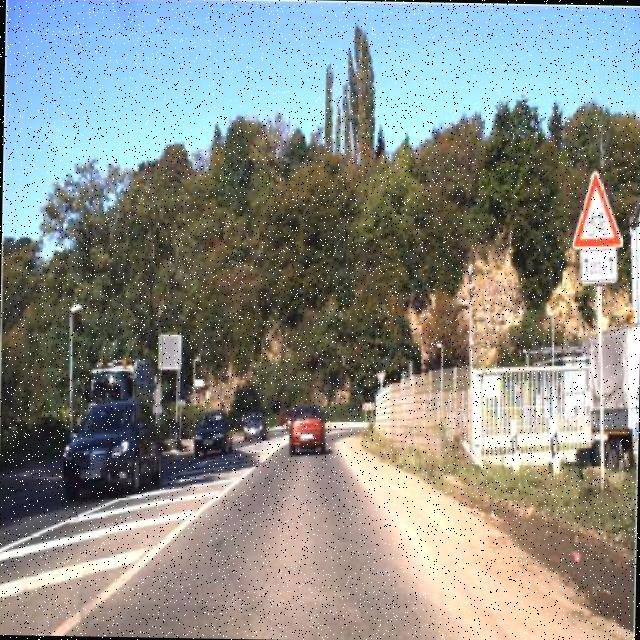Ustap pierwszenstwa: (375, 370, 388, 389)
